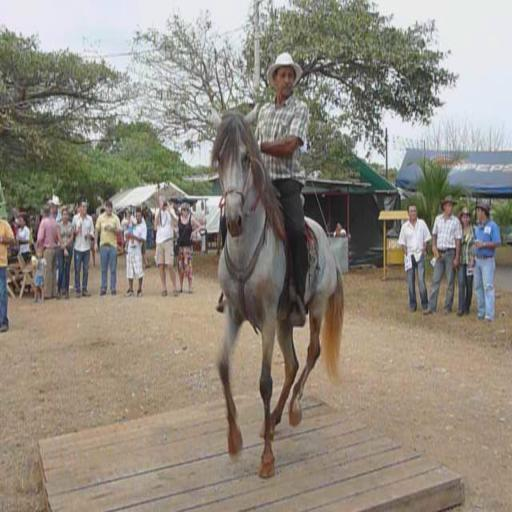horse: (206, 101, 348, 475)
